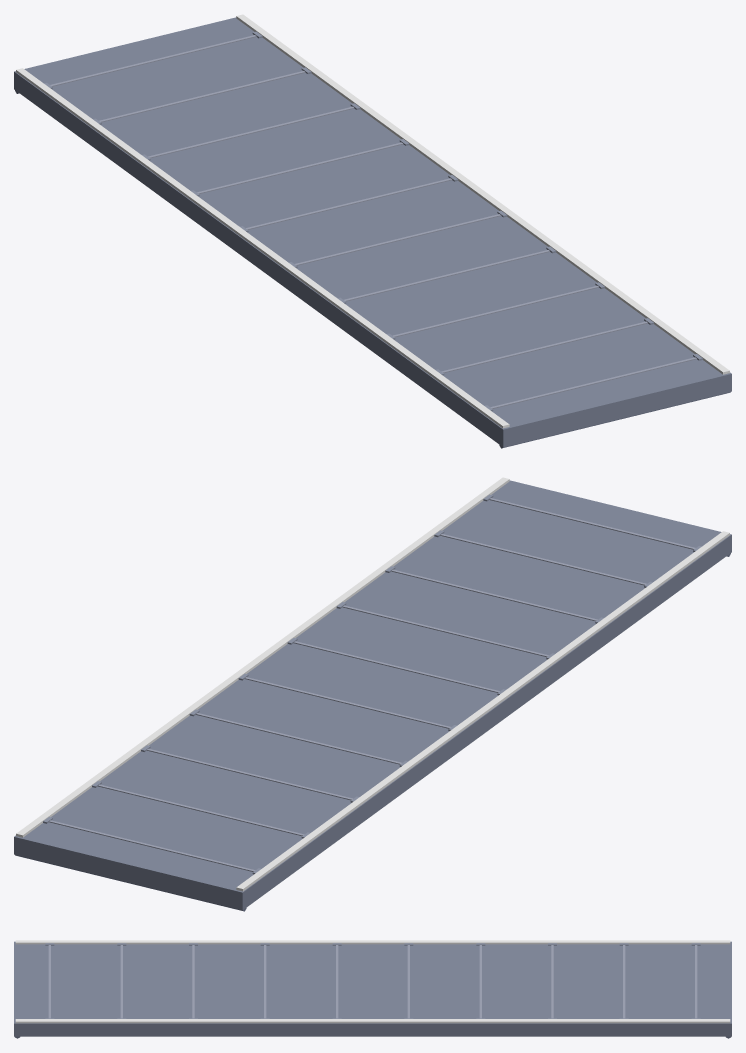
The model's file is carril_plataforma.glb.
3 views of the same model, one above another, from view 1: azimuth 30°, elevation 25°; view 2: azimuth 150°, elevation 25°; view 3: azimuth 270°, elevation 25° (orthographic). The views are drawn at different scales.
Parts seen in each view (by area): view 1: carril_plataforma; view 2: carril_plataforma; view 3: carril_plataforma.
Boxes of the visible parts, x1,y1,x2,y2 form: carril_plataforma: (14,14,731,448); carril_plataforma: (14,477,731,911); carril_plataforma: (14,940,731,1038).
Size of the model in its own units: 5.4 by 0.525 by 20.
